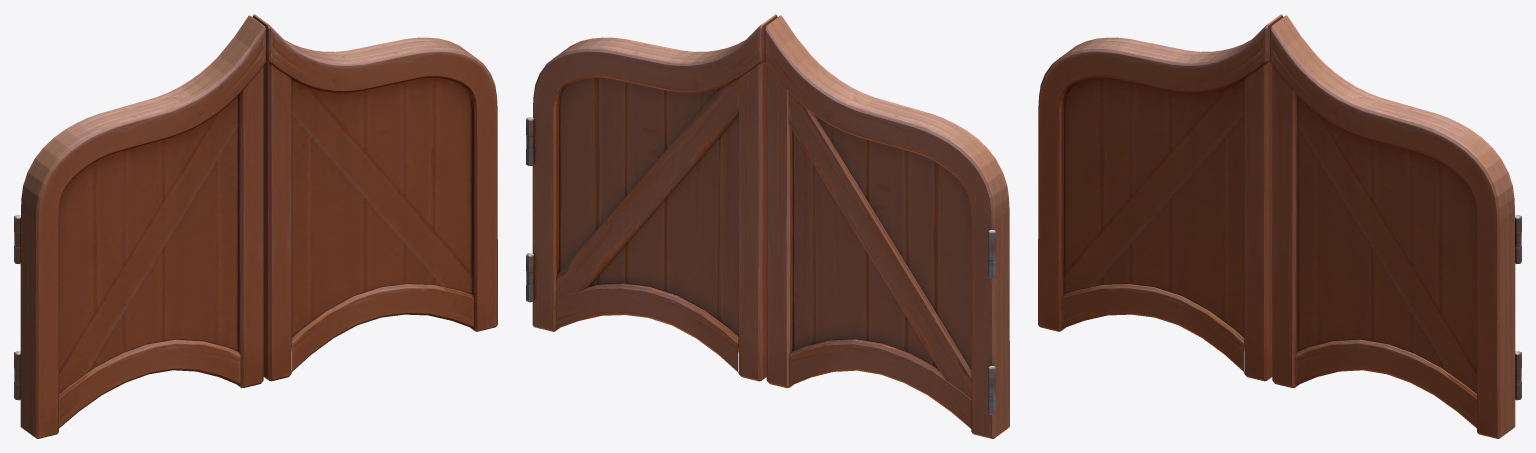
File: pref_sm_sce_080705_door01_lv3.fbx
3 renders of one model, left to right at view 1: azimuth 30°, elevation 25°; view 2: azimuth 150°, elevation 25°; view 3: azimuth 330°, elevation 25°, orthographic.
Parts seen in each view (by area): view 1: sm_sce_080705_door02_lv3, sm_sce_080705_door01_lv3; view 2: sm_sce_080705_door02_lv3, sm_sce_080705_door01_lv3; view 3: sm_sce_080705_door01_lv3, sm_sce_080705_door02_lv3.
Boxes of the visible parts, left/top/right/bottom form: sm_sce_080705_door02_lv3: left=14, top=15, right=265, bottom=438; sm_sce_080705_door01_lv3: left=253, top=14, right=497, bottom=381; sm_sce_080705_door02_lv3: left=764, top=15, right=1009, bottom=438; sm_sce_080705_door01_lv3: left=526, top=14, right=777, bottom=381; sm_sce_080705_door01_lv3: left=1270, top=15, right=1521, bottom=438; sm_sce_080705_door02_lv3: left=1038, top=14, right=1282, bottom=381.
Bounding box in the file's own units: 1.28 × 0.9281 × 0.0977.
